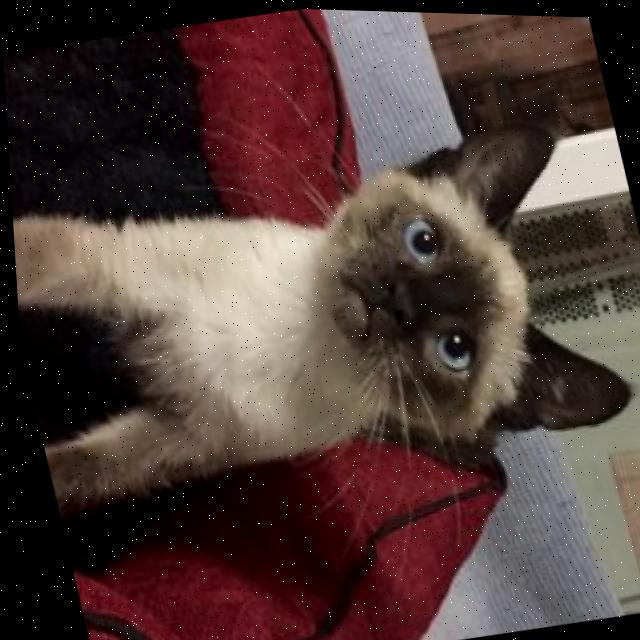Siamese: (4, 93, 640, 544)
